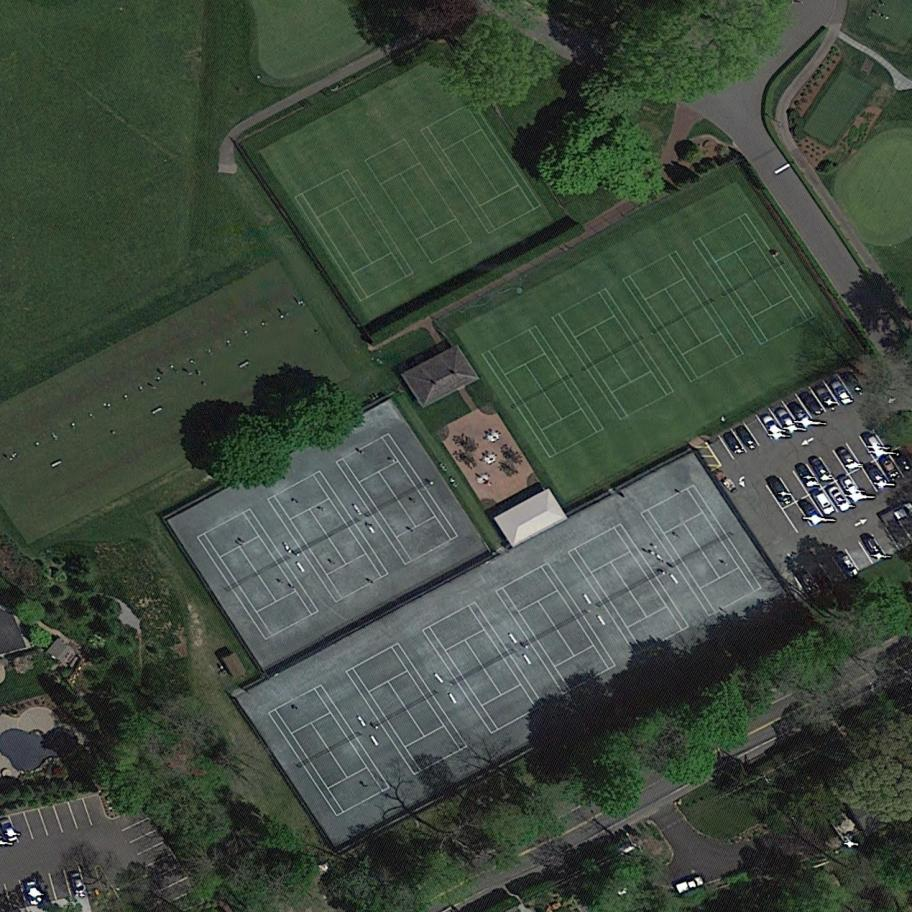small-vehicle: (765, 477, 795, 511), (806, 452, 835, 487), (809, 486, 837, 519), (797, 495, 825, 527), (793, 461, 820, 493), (837, 475, 865, 505), (759, 411, 786, 442), (860, 531, 887, 562), (863, 462, 890, 493), (720, 429, 747, 459), (798, 390, 824, 421), (829, 378, 855, 408), (878, 456, 904, 486), (862, 431, 888, 461), (734, 424, 760, 454), (826, 483, 851, 513), (788, 398, 813, 427), (772, 405, 797, 433), (835, 552, 860, 580), (814, 385, 839, 412), (836, 445, 860, 473), (676, 876, 705, 896), (22, 881, 42, 908), (70, 872, 88, 899), (842, 833, 855, 850)
